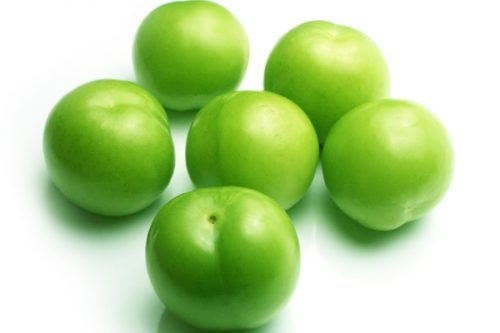Plum: (143, 189, 305, 326), (323, 100, 458, 229), (38, 80, 176, 205), (132, 4, 257, 109)
